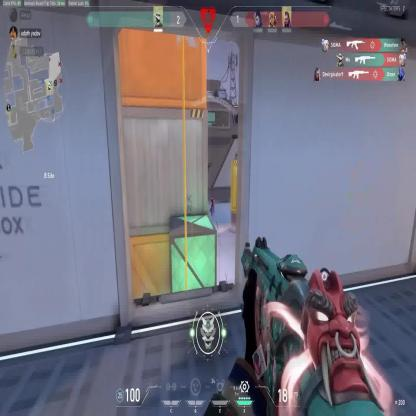enemy: (209, 196, 214, 218)
enemy_head: (211, 196, 214, 202)
